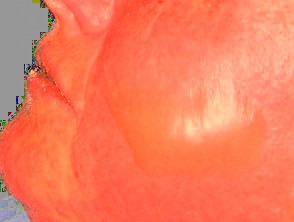SJS-TEN: (100, 83, 284, 190)
